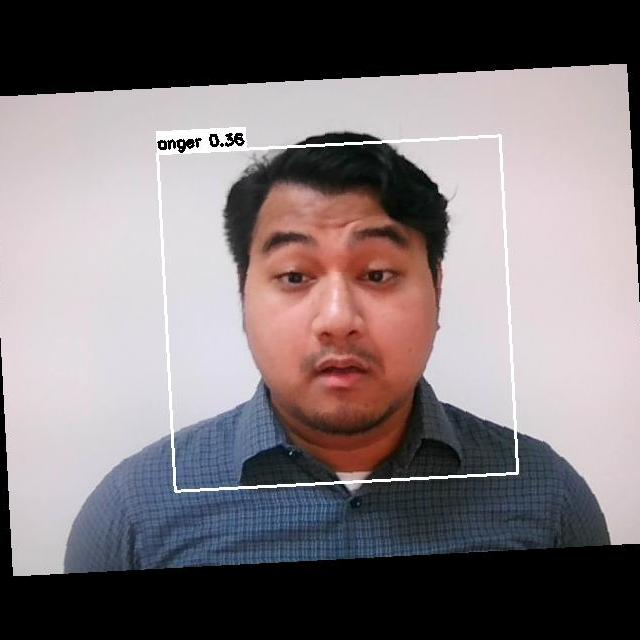Surprised: (233, 218, 445, 416)
